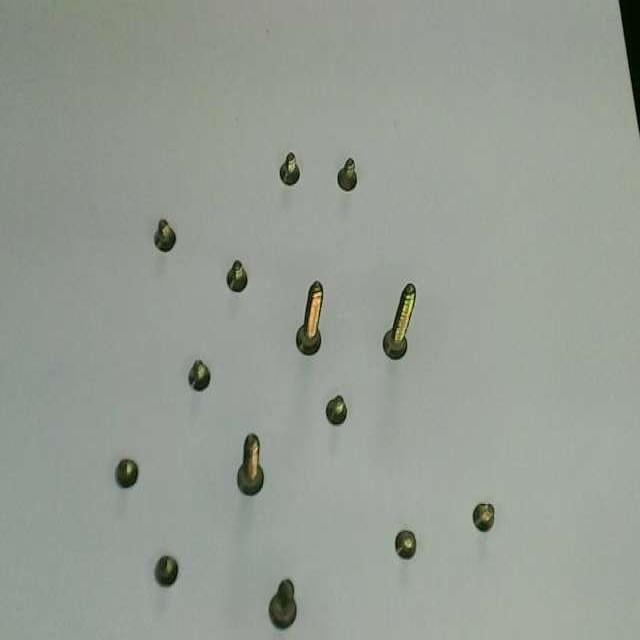Parafuso: (383, 283, 415, 359), (296, 282, 322, 354), (237, 434, 263, 495), (269, 579, 296, 629), (155, 555, 178, 586), (154, 219, 175, 251), (115, 458, 138, 487), (279, 152, 299, 185), (188, 360, 210, 390), (326, 395, 347, 425), (337, 158, 356, 191), (227, 260, 247, 291), (395, 530, 416, 559), (473, 503, 494, 531)
